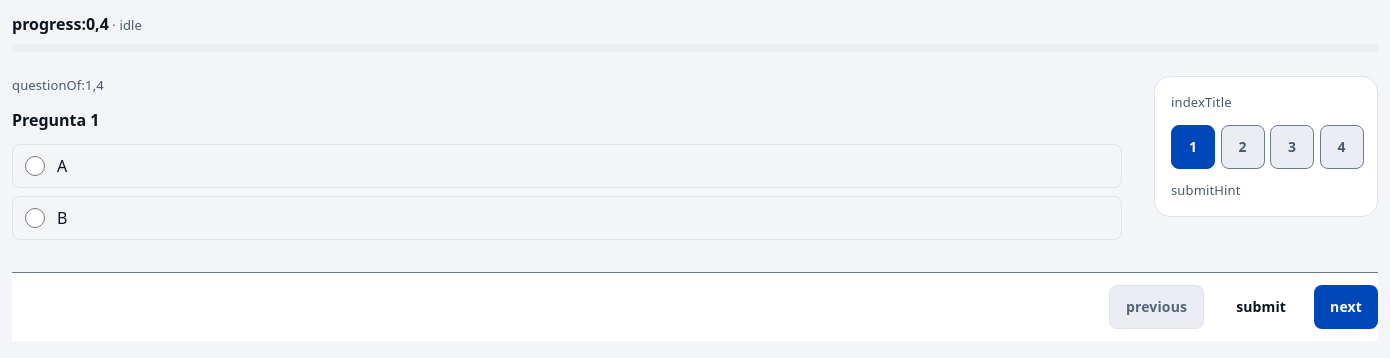
Test: AttemptPlayer en curso › responder sube el avance y marca la pregunta en el índice; el índice salta a otra
What coordinates should you click on to do the following:
click the radio button labelled "A"
I would click on:
 (35, 166)
Its box is [25,156,45,176].
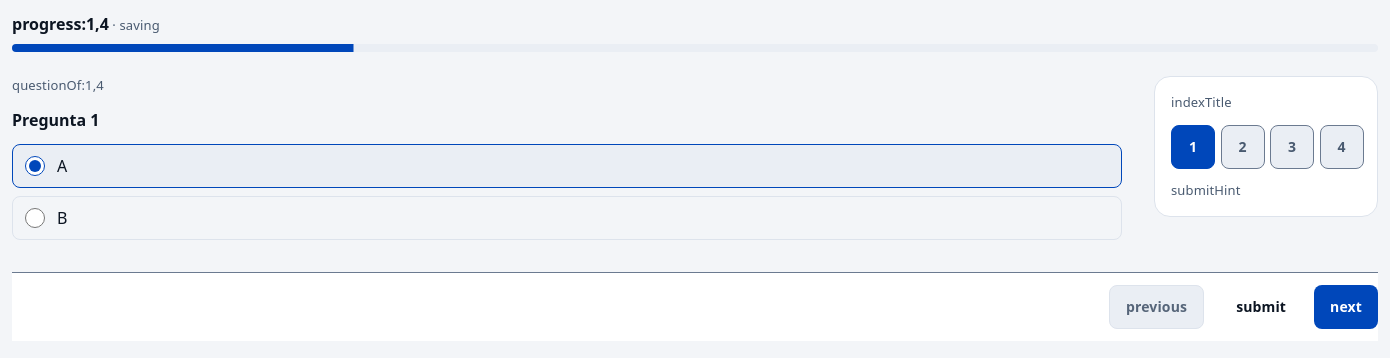
Now the progress indicator has attribute aria-valuenow="25", box [12,44,1378,52]
What coordinates should you click on to do the following:
click the button named "indexUnanswered:3"
I would click on:
 (1292, 146)
Its box is [1270,124,1314,168].
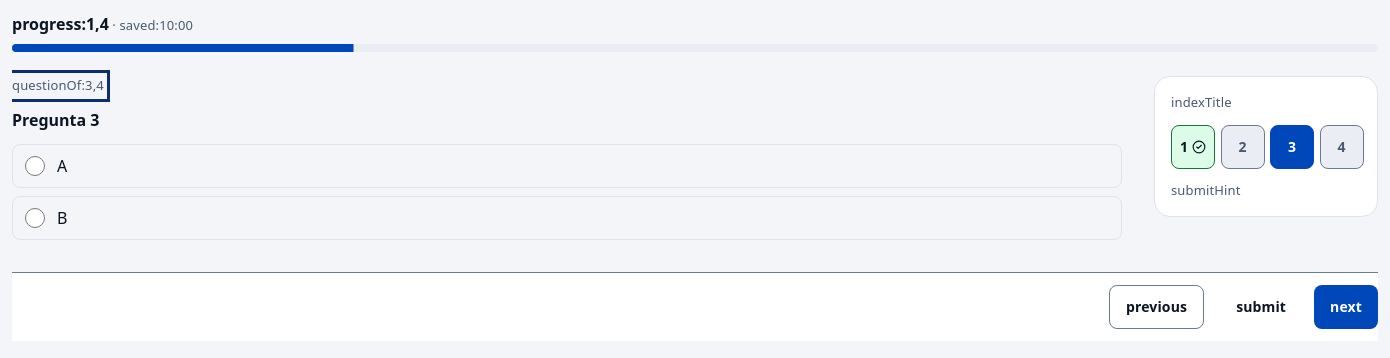
Now the text "Pregunta 3" is shown, box [12,108,100,130]
